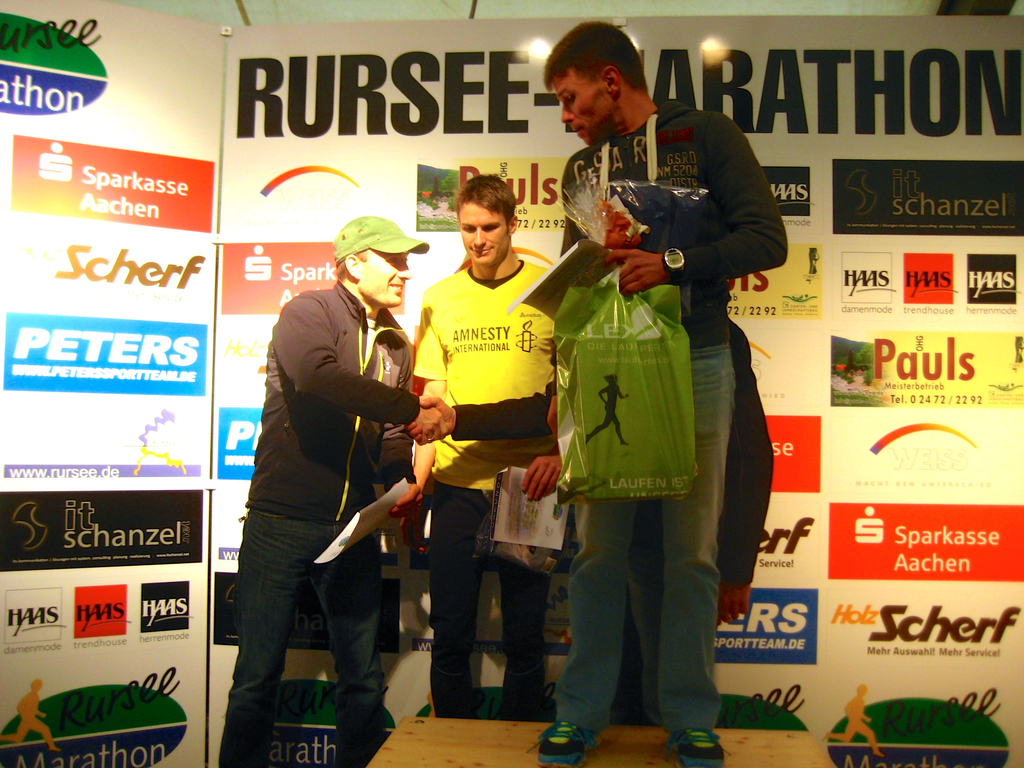Person: (217, 17, 789, 767)
